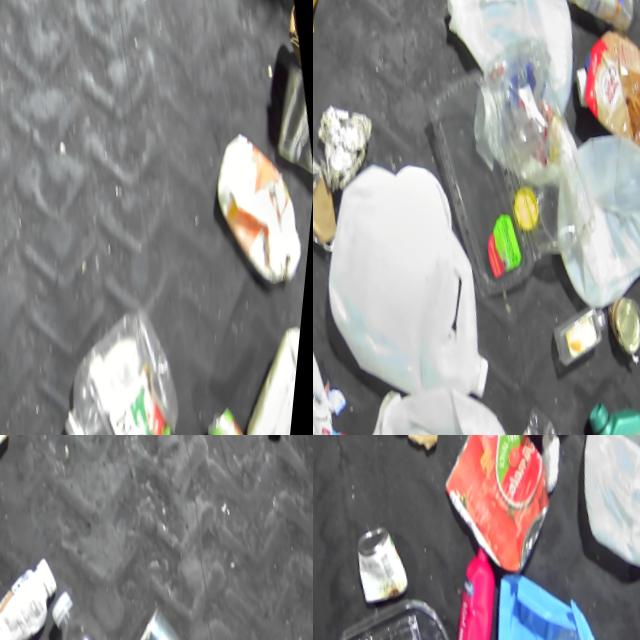can: (422, 435, 578, 582), (354, 516, 425, 604), (313, 120, 354, 258), (125, 588, 226, 640), (205, 390, 269, 435), (607, 281, 640, 353)
milk_jug: (313, 136, 520, 422), (420, 0, 596, 128), (533, 105, 640, 314), (354, 358, 537, 435), (558, 435, 640, 573)
non_white_jug: (201, 110, 313, 287), (582, 373, 640, 435)
plastic_bottle: (44, 289, 209, 435), (38, 569, 181, 640), (552, 293, 623, 362), (532, 0, 640, 44)
